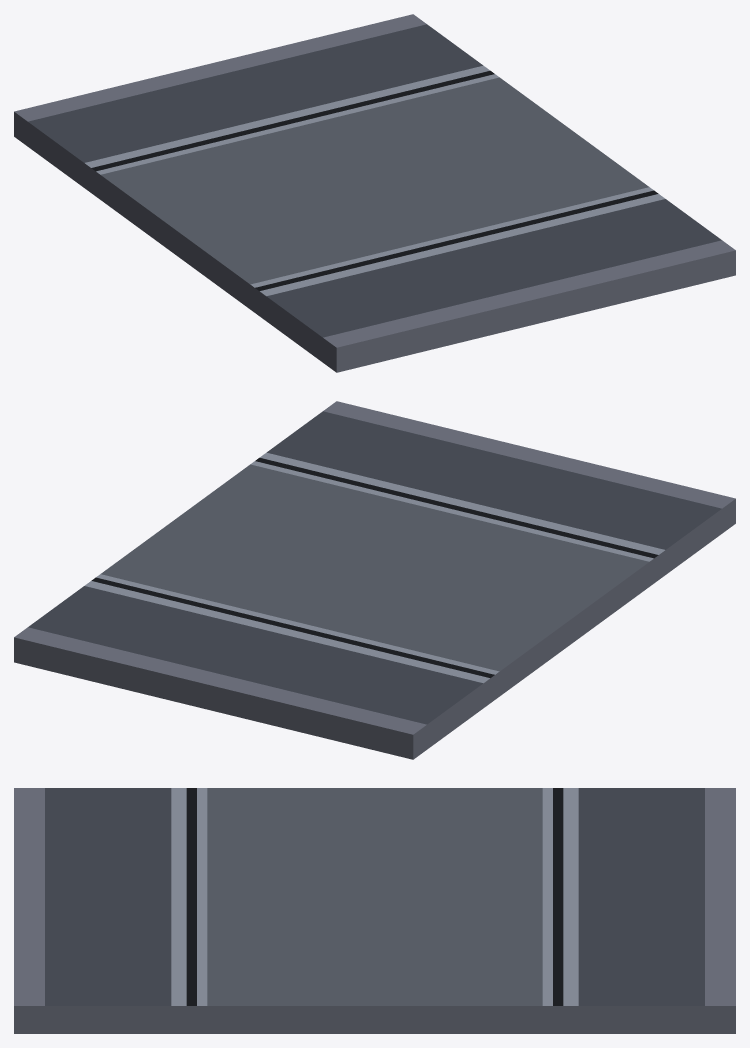
Rendered from tram_track.glb.
3 views of the same model, one above another, from view 1: azimuth 30°, elevation 25°; view 2: azimuth 150°, elevation 25°; view 3: azimuth 270°, elevation 25° (orthographic). The views are drawn at different scales.
Parts seen in each view (by area): view 1: track; view 2: track; view 3: track.
Boxes of the visible parts, x1,y1,x2,y2 form: track: [14, 14, 735, 372]; track: [14, 401, 735, 759]; track: [14, 788, 735, 1033].
Bounding box in the file's own units: 2 × 0.12 × 2.8.
